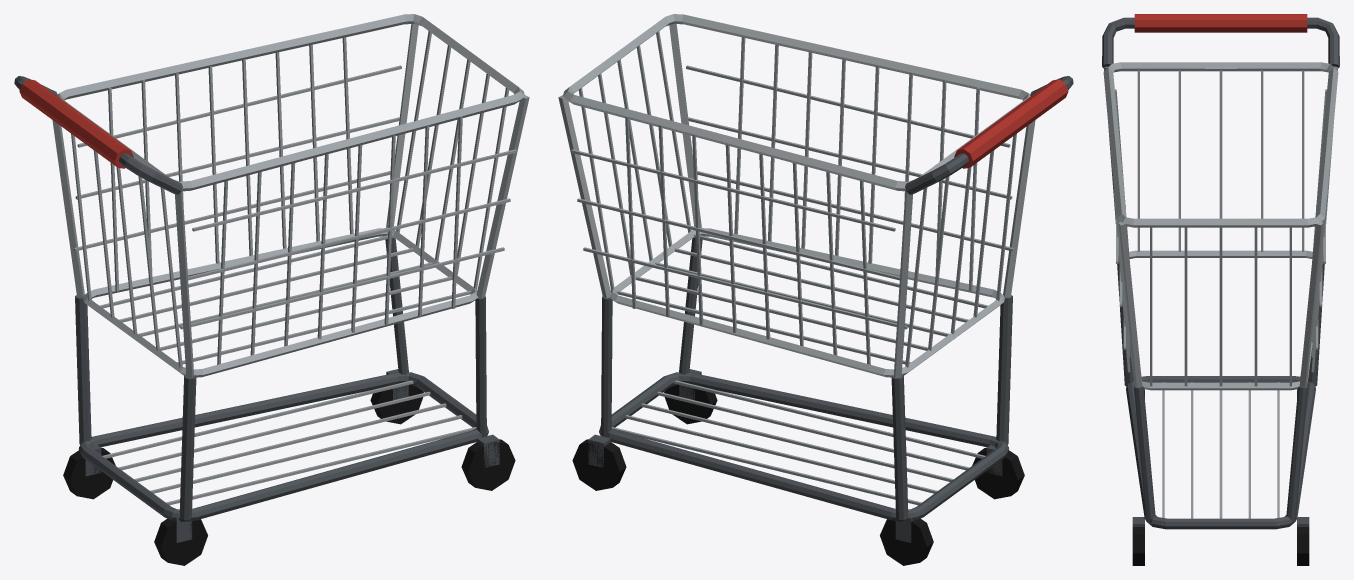
Rendered from caddie.glb.
3 views of the same model, side by side, from view 1: azimuth 30°, elevation 25°; view 2: azimuth 150°, elevation 25°; view 3: azimuth 270°, elevation 25° (orthographic). The views are drawn at different scales.
Parts seen in each view (by area): view 1: base, rim_top, rack, side_l, castors, side_r, rim_low, floor, rails_l, front, back, legs (+7 smaller); view 2: base, rim_top, rack, side_r, castors, side_l, rim_low, floor, rails_r, front, back, legs (+7 smaller); view 3: rim_top, base, grip, rim_low, front, struts, back, posts, rack, handle, castors, legs (+4 smaller).
Part boxes in pixels (x1=…): base: x1=79, y1=372, x2=488, y2=521; rim_top: x1=57, y1=14, x2=525, y2=191; rack: x1=102, y1=380, x2=487, y2=505; side_l: x1=217, y1=116, x2=462, y2=364; castors: x1=63, y1=384, x2=515, y2=565; side_r: x1=108, y1=37, x2=353, y2=291; rim_low: x1=83, y1=228, x2=478, y2=377; floor: x1=100, y1=234, x2=471, y2=364; rails_l: x1=180, y1=149, x2=516, y2=329; front: x1=396, y1=31, x2=509, y2=289; back: x1=71, y1=134, x2=182, y2=367; legs: x1=75, y1=295, x2=196, y2=520; base: x1=599, y1=372, x2=1008, y2=521; rim_top: x1=562, y1=14, x2=1030, y2=191; rack: x1=600, y1=380, x2=985, y2=505; side_r: x1=625, y1=116, x2=870, y2=364; castors: x1=572, y1=384, x2=1024, y2=565; side_l: x1=734, y1=37, x2=979, y2=291; rim_low: x1=609, y1=228, x2=1004, y2=377; floor: x1=616, y1=234, x2=987, y2=364; rails_r: x1=571, y1=149, x2=907, y2=329; front: x1=578, y1=31, x2=691, y2=289; back: x1=905, y1=134, x2=1016, y2=367; legs: x1=891, y1=295, x2=1012, y2=520; rim_top: x1=1103, y1=62, x2=1338, y2=227; base: x1=1126, y1=376, x2=1315, y2=529; grip: x1=1134, y1=14, x2=1307, y2=32; rim_low: x1=1119, y1=250, x2=1322, y2=390; front: x1=1150, y1=227, x2=1291, y2=386; struts: x1=1134, y1=386, x2=1307, y2=521; back: x1=1137, y1=70, x2=1304, y2=251; posts: x1=1118, y1=222, x2=1323, y2=387; rack: x1=1162, y1=382, x2=1279, y2=524; handle: x1=1102, y1=17, x2=1339, y2=68; castors: x1=1132, y1=391, x2=1309, y2=565; legs: x1=1117, y1=255, x2=1324, y2=386.
Bounding box in the file's own units: 1.04 × 1.04 × 0.578.
Materials: 4 (4 with a texture image).
